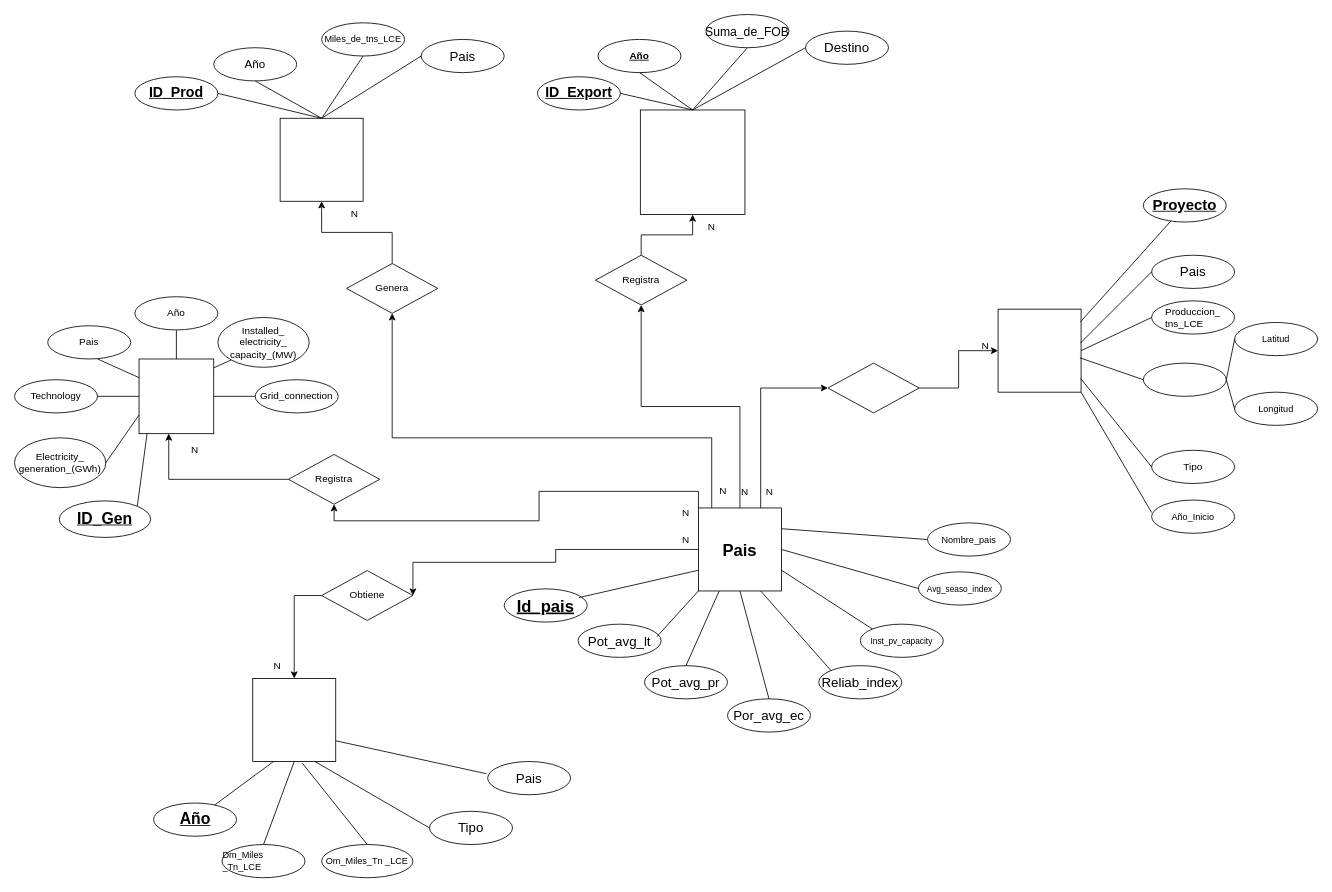
Image size: 1332x892. Some labels were removed from this diagram. Each missing label, with the centre of its shape:
"Exportaciones de litio" goes at (x=692, y=162).
"Generacion eléctrica" goes at (x=176, y=396).
"Producción Litio" goes at (x=321, y=159).
"Proyecciones de Litio" goes at (x=294, y=720).
"Proyectos Litio" goes at (x=1039, y=350).
"Tiene" goes at (x=873, y=387).
"Ubicación" goes at (x=1184, y=379).
